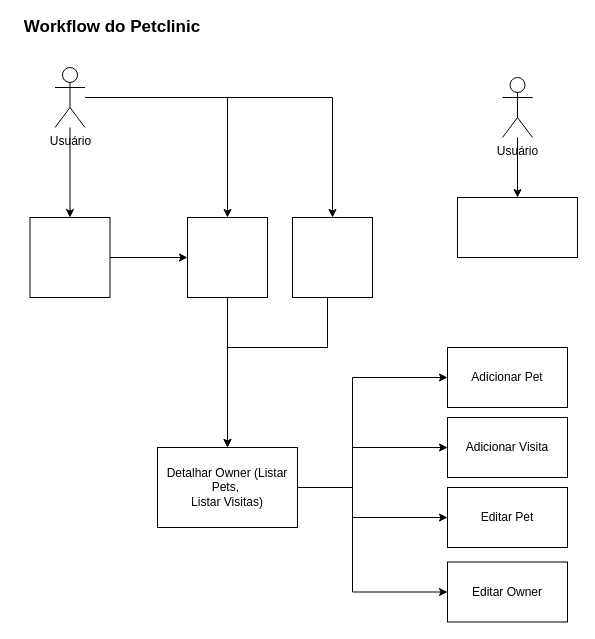
Some shapes in this 595 by 639 pixel diagram are drawn without their labels. The shapes that lost their labels are listed below. From the top down, each one's centre as x and y in pixels, then its label:
At pixel 517 227: "Listar Vets".
At pixel 69 257: "Pesquisar pelo nome do Owner".
At pixel 227 257: "Listar os Owners com Pets".
At pixel 332 257: "Adicionar novo Owner".
